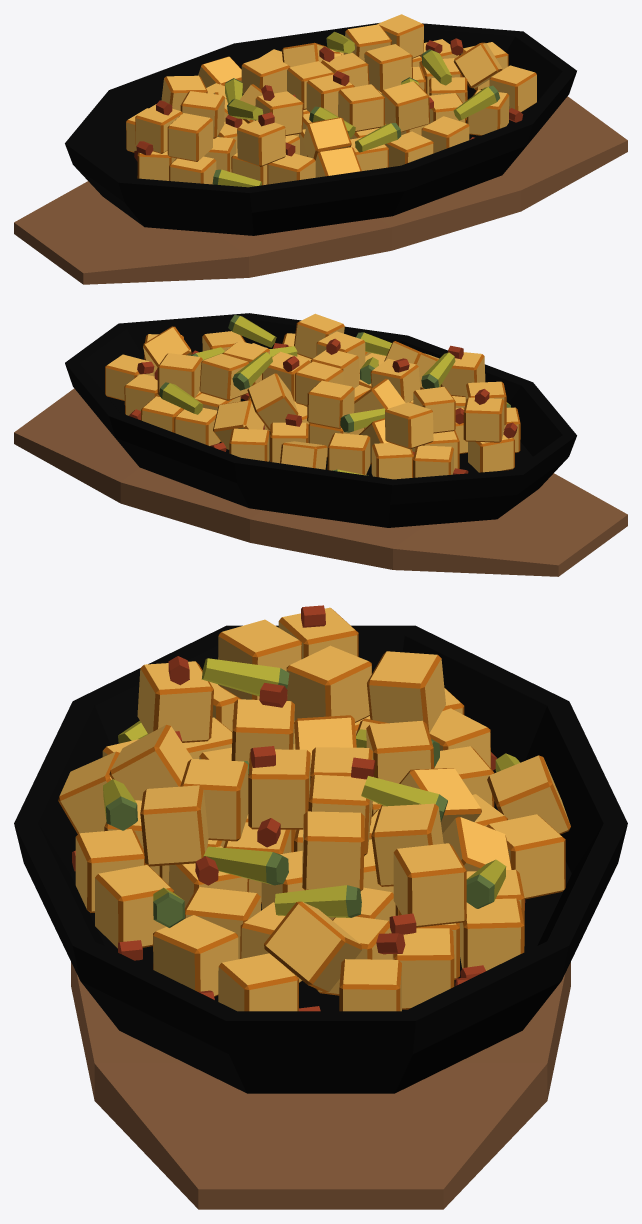
Rendered from FINAL_Tofu Sisig.fbx.
3 views of the same model, one above another, from view 1: azimuth 30°, elevation 25°; view 2: azimuth 150°, elevation 25°; view 3: azimuth 270°, elevation 25° (orthographic). The views are drawn at different scales.
Parts seen in each view (by area): view 1: Tofu Sisig; view 2: Tofu Sisig; view 3: Tofu Sisig.
Boxes of the visible parts, box(x1,y1,x2,y2) form: Tofu Sisig: box(14, 14, 627, 284); Tofu Sisig: box(14, 313, 627, 576); Tofu Sisig: box(14, 605, 627, 1209).
Bounding box in the file's own units: 161 × 39.16 × 88.92.
